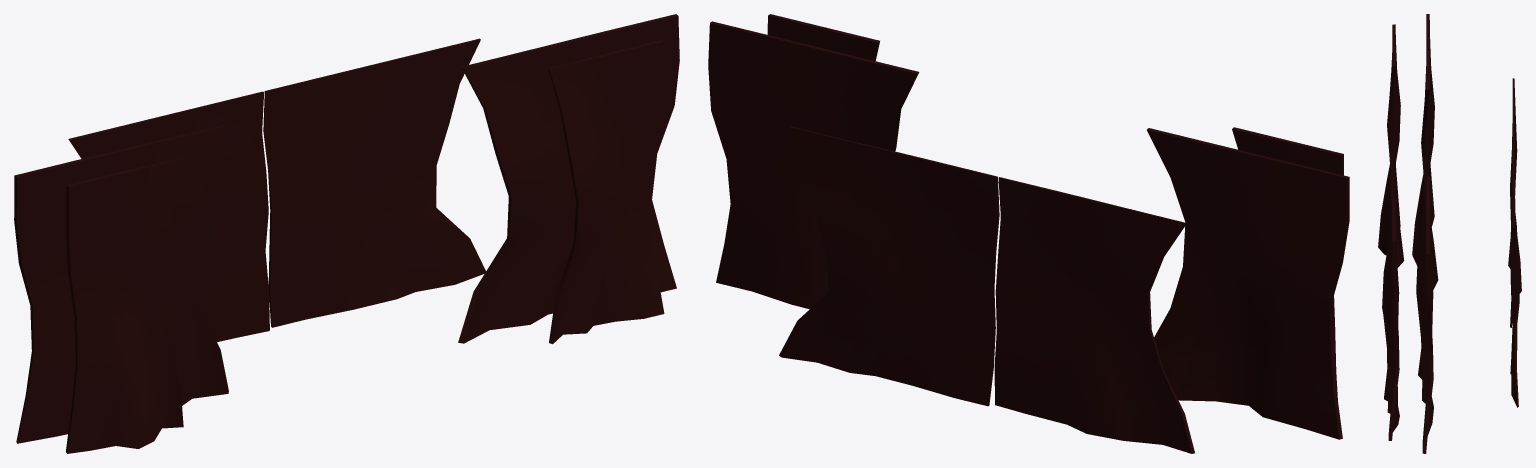
Rendered from Theat Curt 2.FBX.
3 views of the same model, side by side, from view 1: azimuth 30°, elevation 25°; view 2: azimuth 150°, elevation 25°; view 3: azimuth 270°, elevation 25° (orthographic). The views are drawn at different scales.
Visible parts, largest first — view 1: Front Right Curtain002, Front Left Curtain, Front Right Curtain001, Front Right Curtain, Front Left Curtain001, Front Left Curtain002; view 2: Front Left Curtain001, Front Right Curtain002, Front Left Curtain002, Front Right Curtain001, Front Left Curtain, Front Right Curtain; view 3: Front Right Curtain001, Front Right Curtain, Front Left Curtain, Front Left Curtain001, Front Right Curtain002, Front Left Curtain002.
Part boxes in pixels (bbox=[...]): Front Right Curtain002: bbox=[263, 38, 485, 327]; Front Left Curtain: bbox=[66, 157, 183, 453]; Front Right Curtain001: bbox=[458, 14, 679, 343]; Front Right Curtain: bbox=[547, 40, 664, 344]; Front Left Curtain001: bbox=[14, 125, 228, 443]; Front Left Curtain002: bbox=[68, 91, 269, 342]; Front Left Curtain001: bbox=[1147, 128, 1349, 439]; Front Right Curtain002: bbox=[779, 126, 999, 406]; Front Left Curtain002: bbox=[994, 177, 1194, 453]; Front Right Curtain001: bbox=[708, 21, 919, 309]; Front Left Curtain: bbox=[1232, 127, 1343, 399]; Front Right Curtain: bbox=[767, 14, 879, 60]; Front Right Curtain001: bbox=[1416, 176, 1433, 453]; Front Right Curtain: bbox=[1382, 199, 1399, 440]; Front Left Curtain: bbox=[1378, 24, 1404, 267]; Front Left Curtain001: bbox=[1412, 14, 1438, 290]; Front Right Curtain002: bbox=[1510, 149, 1519, 407]; Front Left Curtain002: bbox=[1508, 78, 1521, 327].
Bounding box in the file's own units: 16.72 × 6.52 × 4.22.
